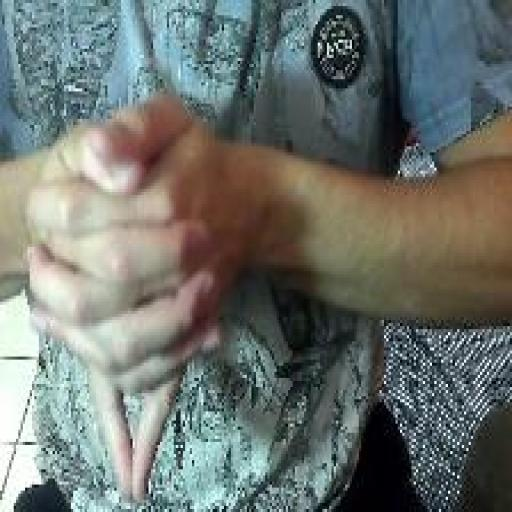Tatsu -dragon-: (22, 85, 230, 509)
